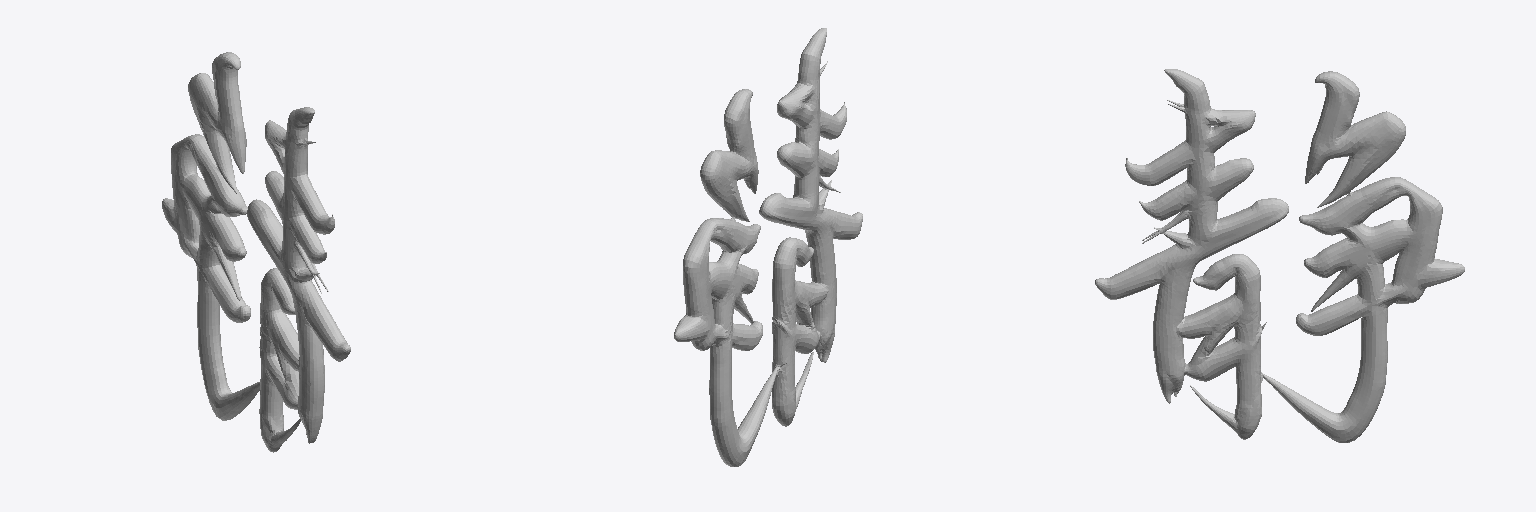
The picture shows the model from 3 angles: view 1: azimuth 30°, elevation 25°; view 2: azimuth 150°, elevation 25°; view 3: azimuth 270°, elevation 25°; orthographic projection.
Visible parts, largest first — view 1: tripo_node_decea32d-5537-45a4-b2c0-d4c960c7d3a2; view 2: tripo_node_decea32d-5537-45a4-b2c0-d4c960c7d3a2; view 3: tripo_node_decea32d-5537-45a4-b2c0-d4c960c7d3a2.
Boxes of the visible parts, box(x1,y1,x2,y2) form: tripo_node_decea32d-5537-45a4-b2c0-d4c960c7d3a2: box(162, 52, 350, 452); tripo_node_decea32d-5537-45a4-b2c0-d4c960c7d3a2: box(674, 28, 862, 466); tripo_node_decea32d-5537-45a4-b2c0-d4c960c7d3a2: box(1095, 69, 1464, 442).
Bounding box in the file's own units: 0.0583 × 0.9978 × 0.8972.